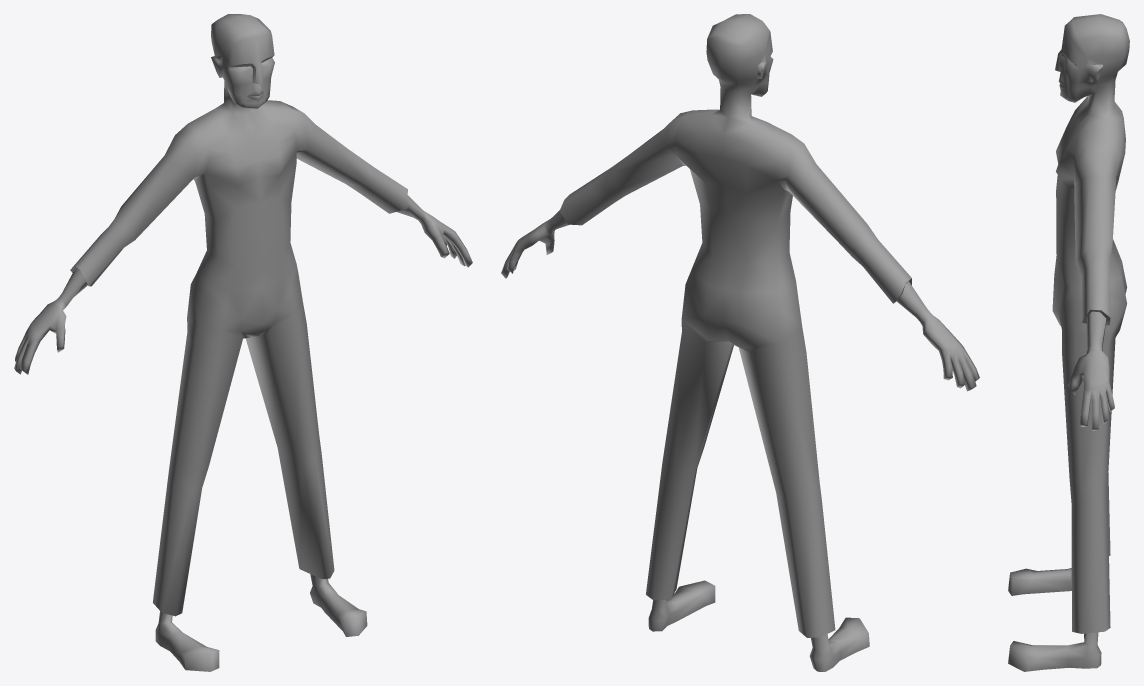
Rendered from npc_male_gen.FBX.
3 views of the same model, side by side, from view 1: azimuth 30°, elevation 25°; view 2: azimuth 150°, elevation 25°; view 3: azimuth 270°, elevation 25° (orthographic). The views are drawn at different scales.
Visible parts, largest first — view 1: male_generic; view 2: male_generic; view 3: male_generic.
Boxes of the visible parts, x1,y1,x2,y2 form: male_generic: (14, 14, 472, 671); male_generic: (501, 14, 979, 671); male_generic: (1008, 14, 1129, 671).
Bounding box in the file's own units: 64.9 × 82.61 × 14.97.
